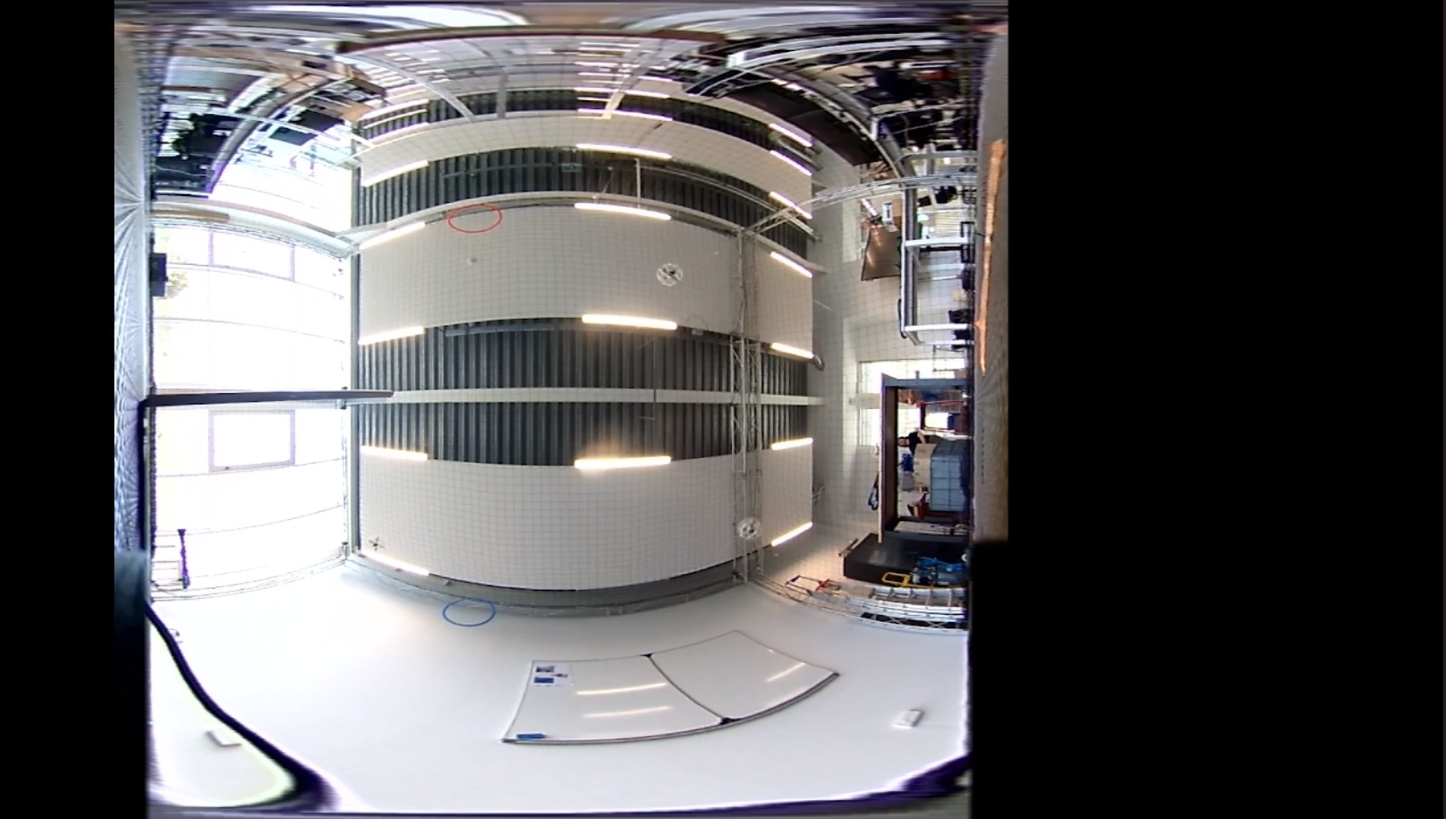Drone: (656, 263, 684, 287), (737, 516, 763, 541), (366, 534, 388, 555)
